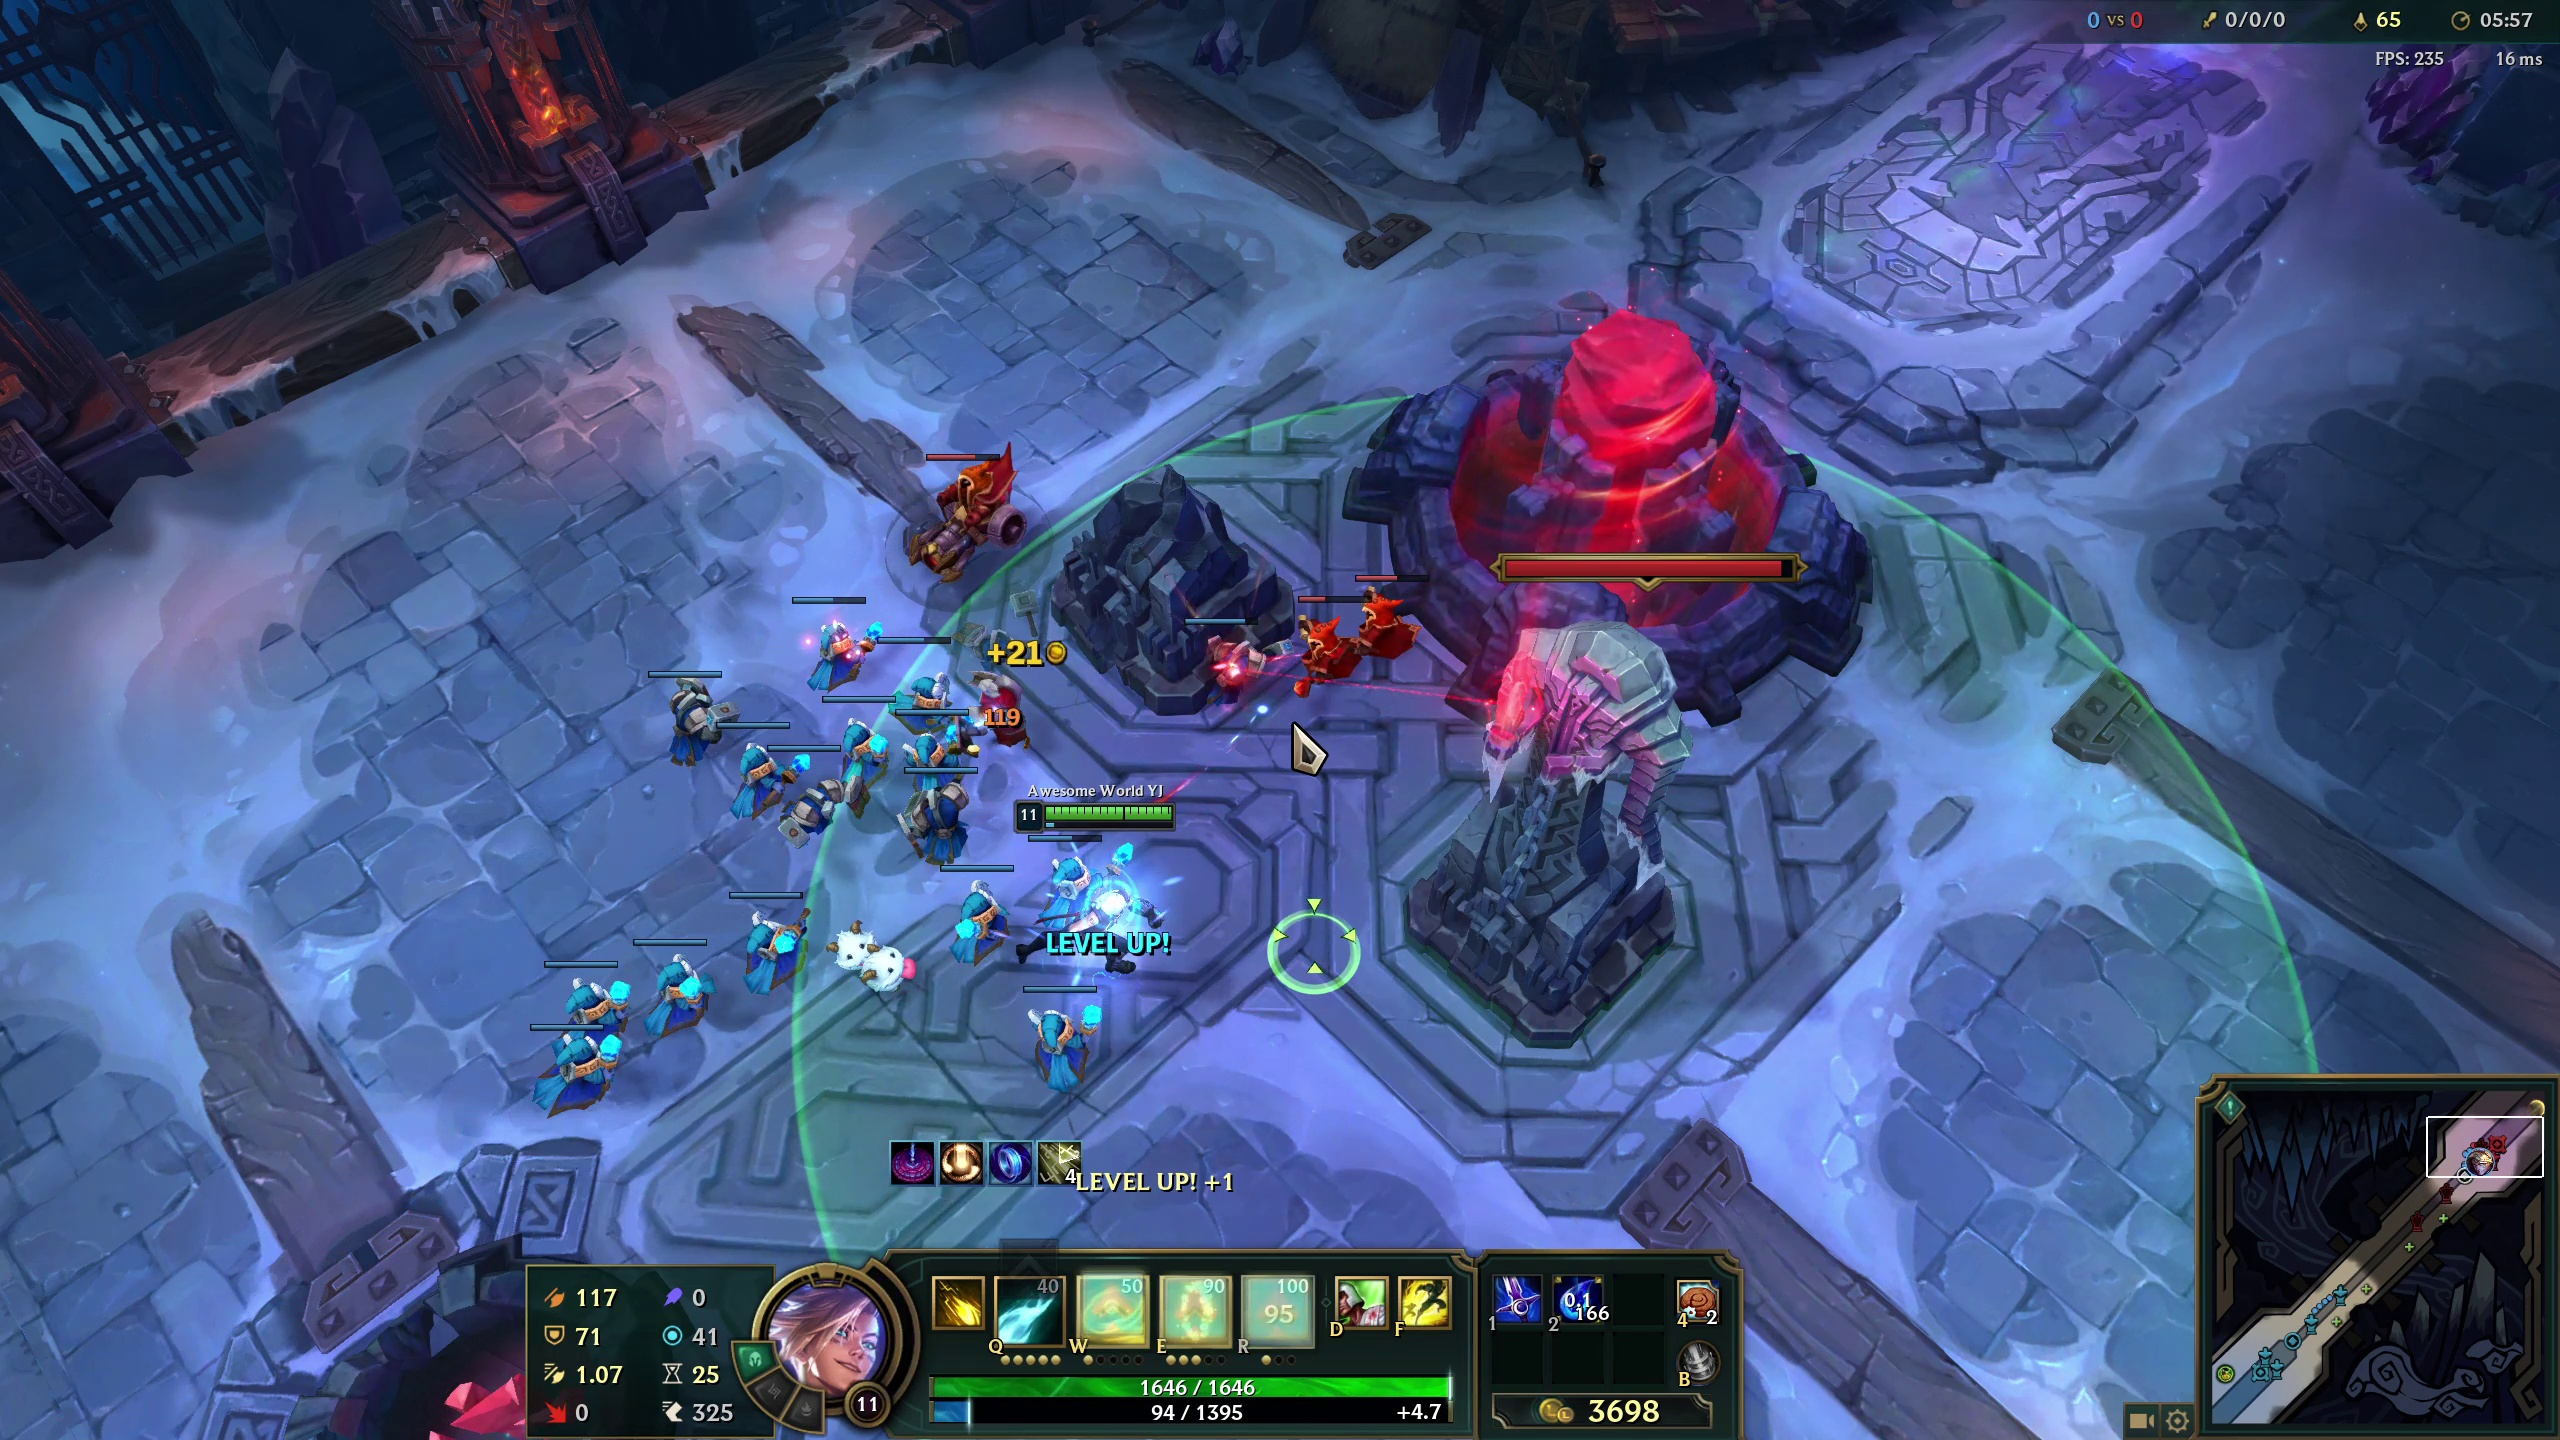EZ: (1074, 884, 1169, 958)
EnemyMinion: (1359, 566, 1444, 663), (1275, 585, 1359, 680)
EnemySuperMinnion: (881, 438, 1022, 556)
Inhibitor: (1444, 325, 1830, 624)
MyMinion: (819, 668, 900, 767), (536, 1022, 617, 1118), (543, 946, 624, 1043), (636, 934, 717, 1030), (717, 890, 798, 986), (649, 651, 730, 747), (709, 707, 789, 804), (796, 587, 877, 684), (898, 628, 979, 724), (754, 730, 835, 826), (895, 767, 976, 863), (1022, 988, 1102, 1085), (955, 860, 1020, 964)
Turret: (1484, 636, 1656, 1029)
